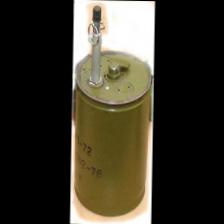OZM-72: (71, 38, 154, 218)
